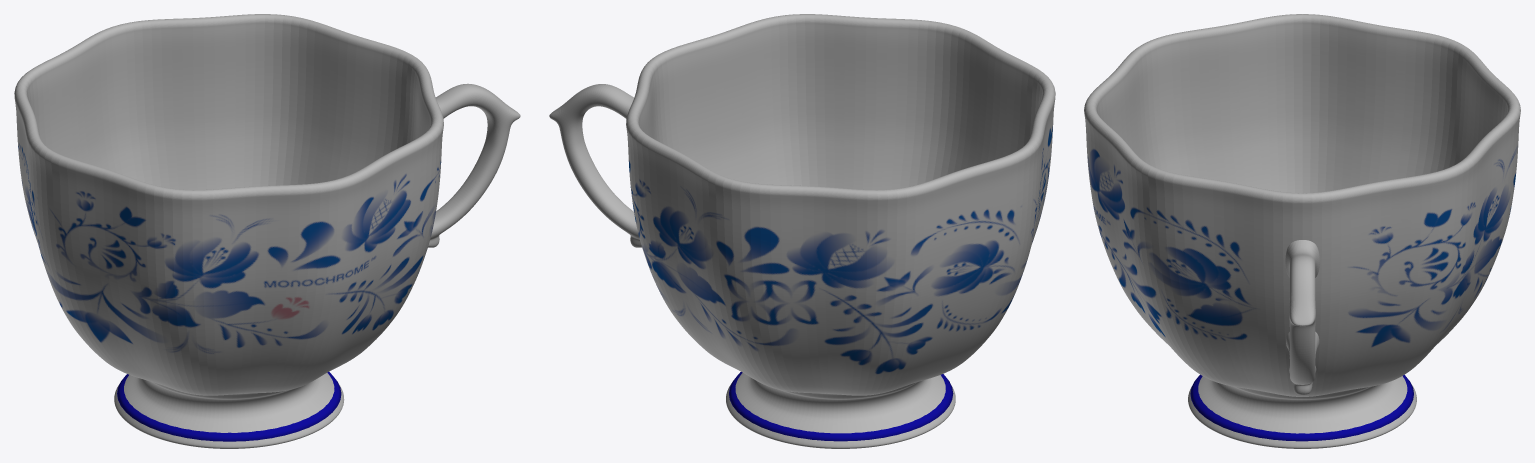
The picture shows the model from 3 angles, left to right: view 1: azimuth 30°, elevation 25°; view 2: azimuth 150°, elevation 25°; view 3: azimuth 270°, elevation 25°; orthographic projection.
Visible parts, largest first — view 1: Cup_v1_04.001; view 2: Cup_v1_04.001; view 3: Cup_v1_04.001.
Boxes of the visible parts, left/top/right/bottom form: Cup_v1_04.001: left=14, top=14, right=520, bottom=448; Cup_v1_04.001: left=549, top=14, right=1055, bottom=448; Cup_v1_04.001: left=1084, top=14, right=1520, bottom=448.
Bounding box in the file's own units: 4.48 × 2.67 × 3.55.
4 materials, 3 textured.
